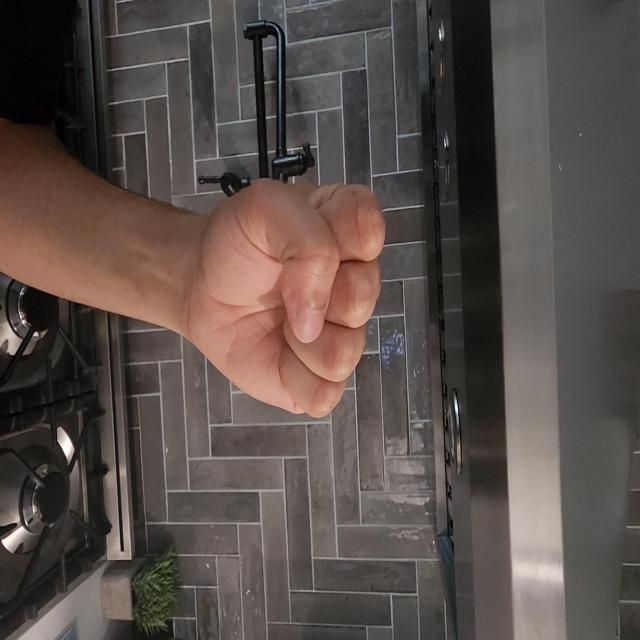S: (290, 337, 476, 611)
